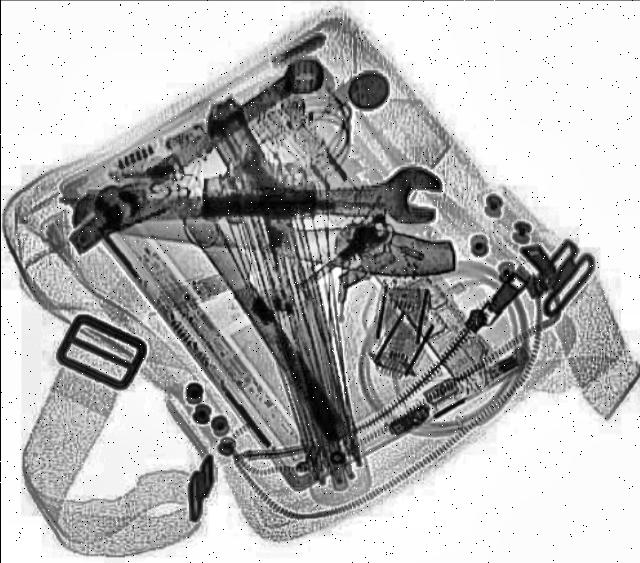Gun: (195, 94, 317, 216)
Knife: (151, 166, 351, 440), (106, 199, 457, 281)
Wrench: (59, 46, 333, 242), (95, 166, 439, 226)
